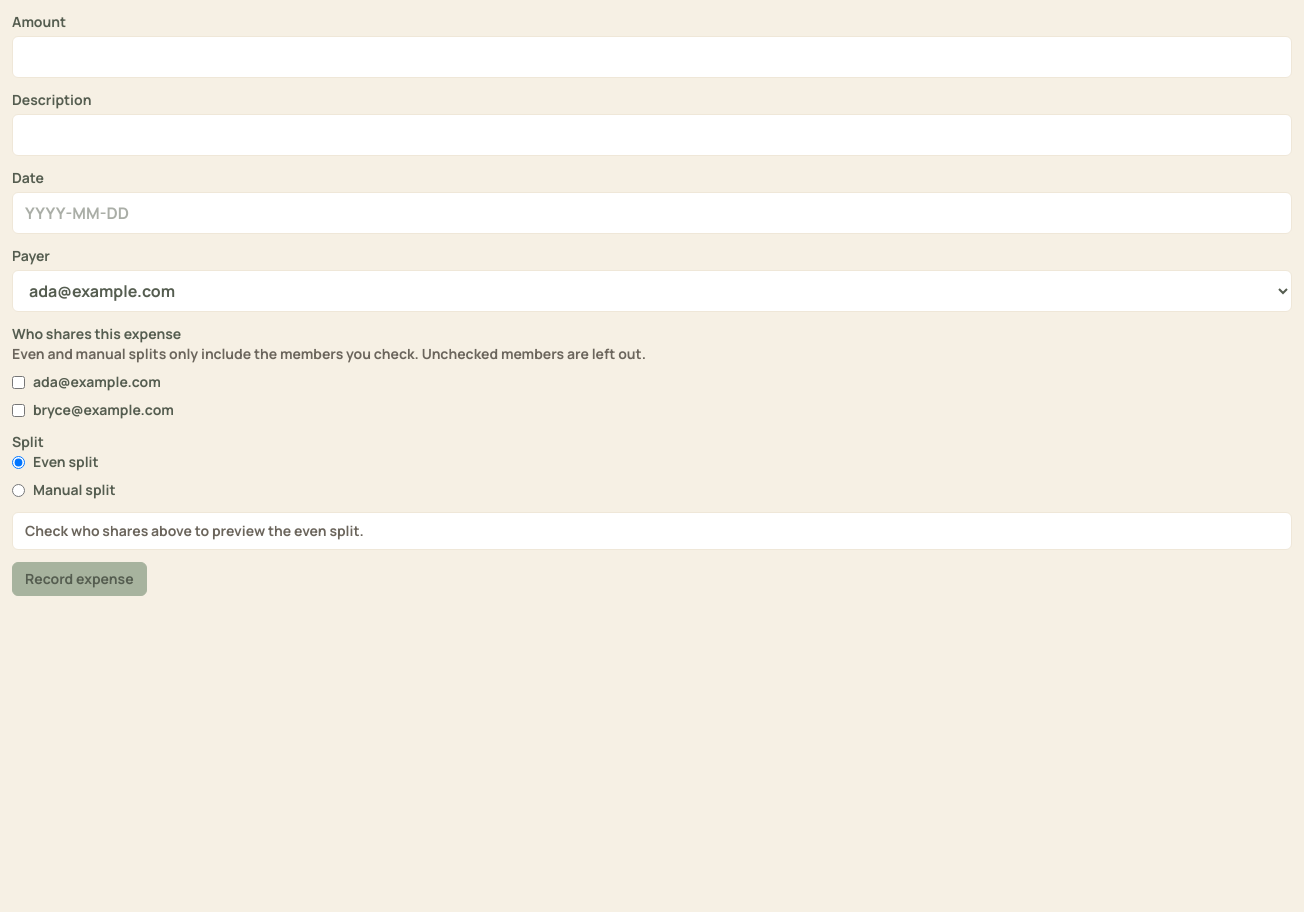
Test case: ExpenseForm › records an even split for selected participants
Type "10.50" into the field labelled "Amount". click: (652, 57)
box: top-left (12, 36), bottom-right (1292, 78)
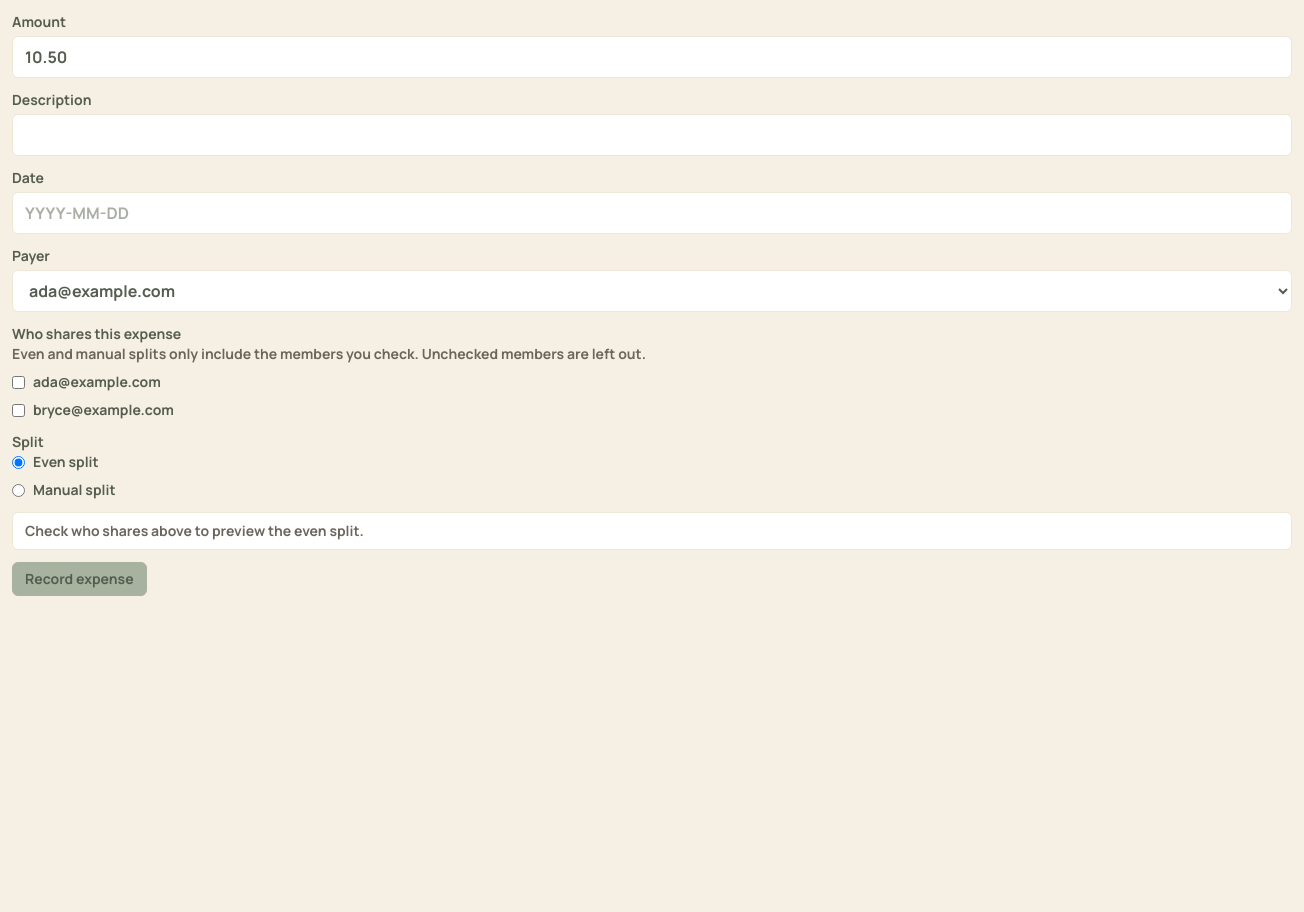
Type "Taxi" into the field labelled "Description". click: (652, 135)
box: top-left (12, 114), bottom-right (1292, 156)
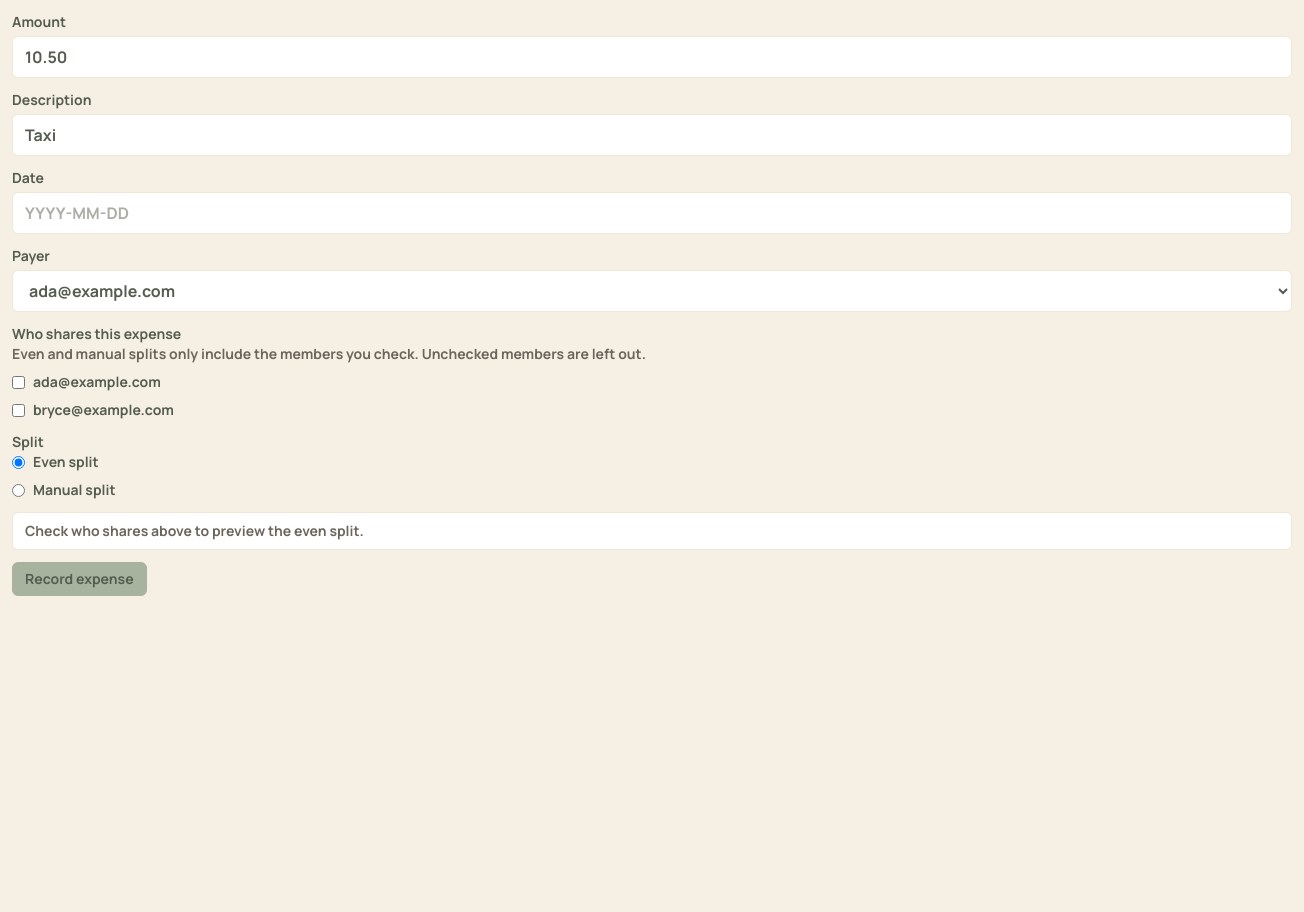
Type "2026-11-02" into the field labelled "Date". click: (652, 213)
box: top-left (12, 192), bottom-right (1292, 234)
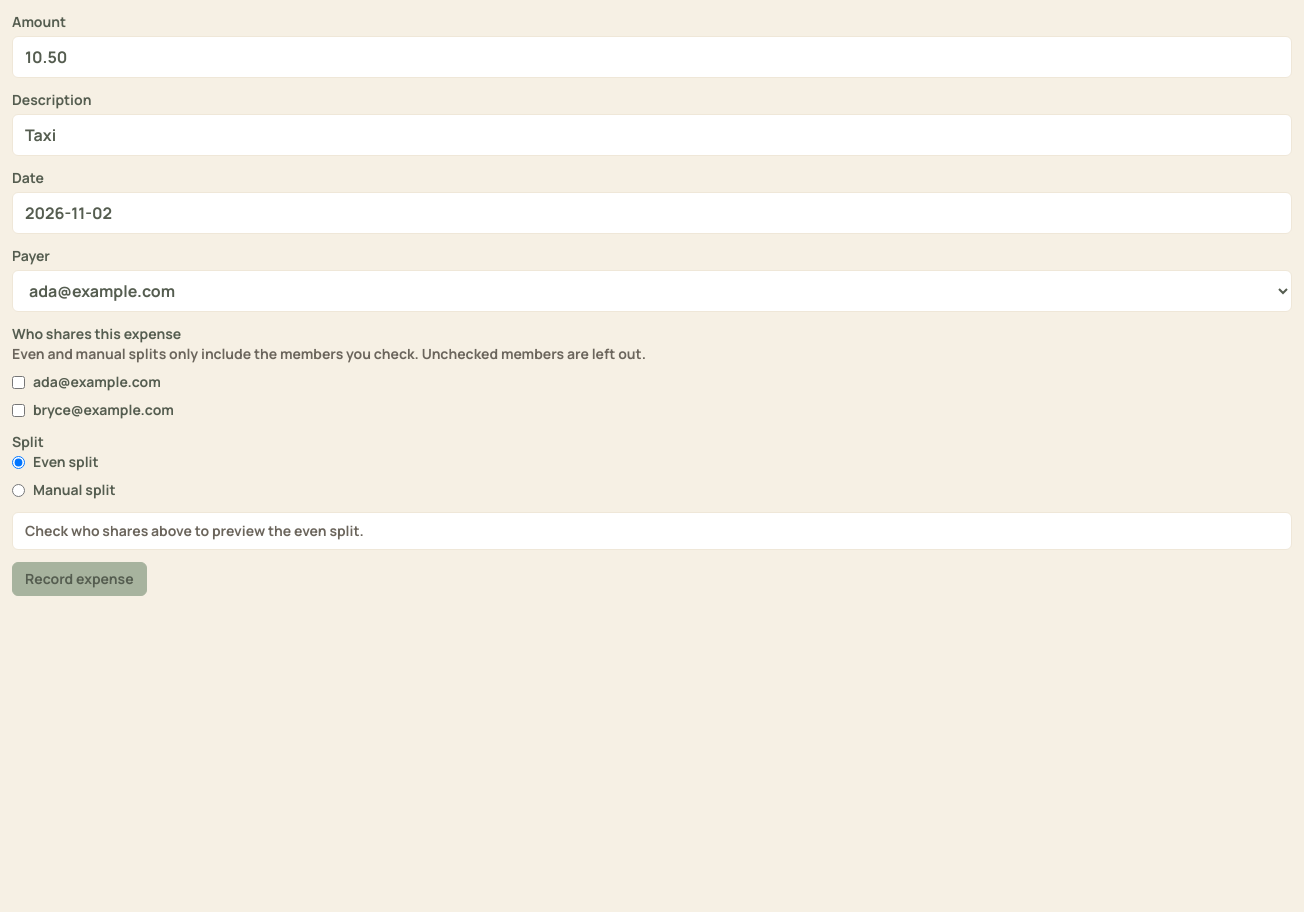
Select "ada@example.com" in the dropdown labelled "Payer". click: (652, 291)
box: top-left (12, 270), bottom-right (1292, 312)
Click the checkbox labelled "ada@example.com". click: click(18, 382)
box: top-left (12, 376), bottom-right (25, 388)
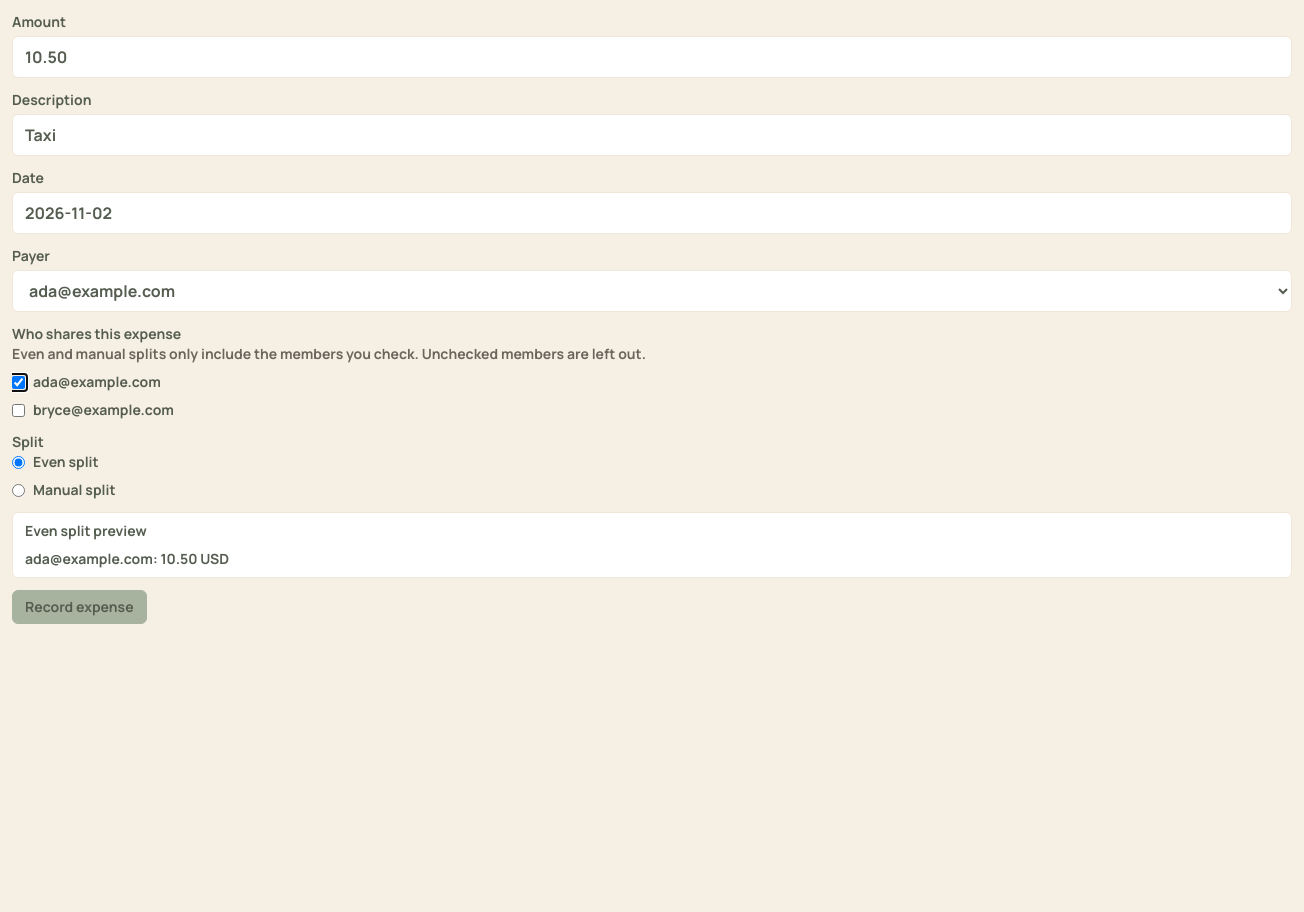
Click the checkbox labelled "bryce@example.com". click: click(18, 410)
box: top-left (12, 404), bottom-right (25, 416)
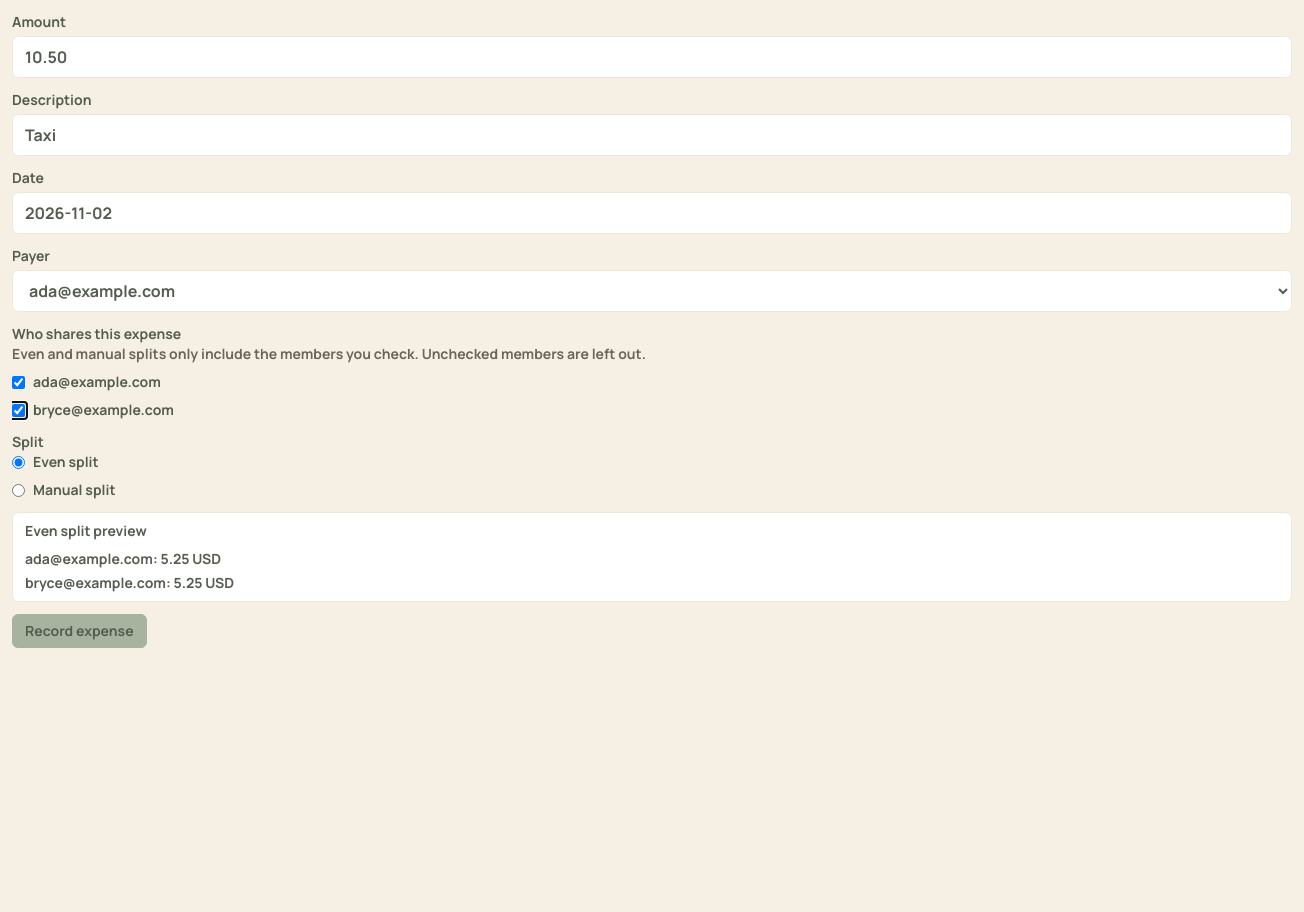
Check: the list item "ada@example.com: 5.25 USD" is shown, box top-left (25, 549), bottom-right (221, 568)
Check: the list item "bryce@example.com: 5.25 USD" is shown, box top-left (25, 573), bottom-right (234, 592)
Click the button "Record expense". click: click(79, 631)
box: top-left (12, 614), bottom-right (147, 648)
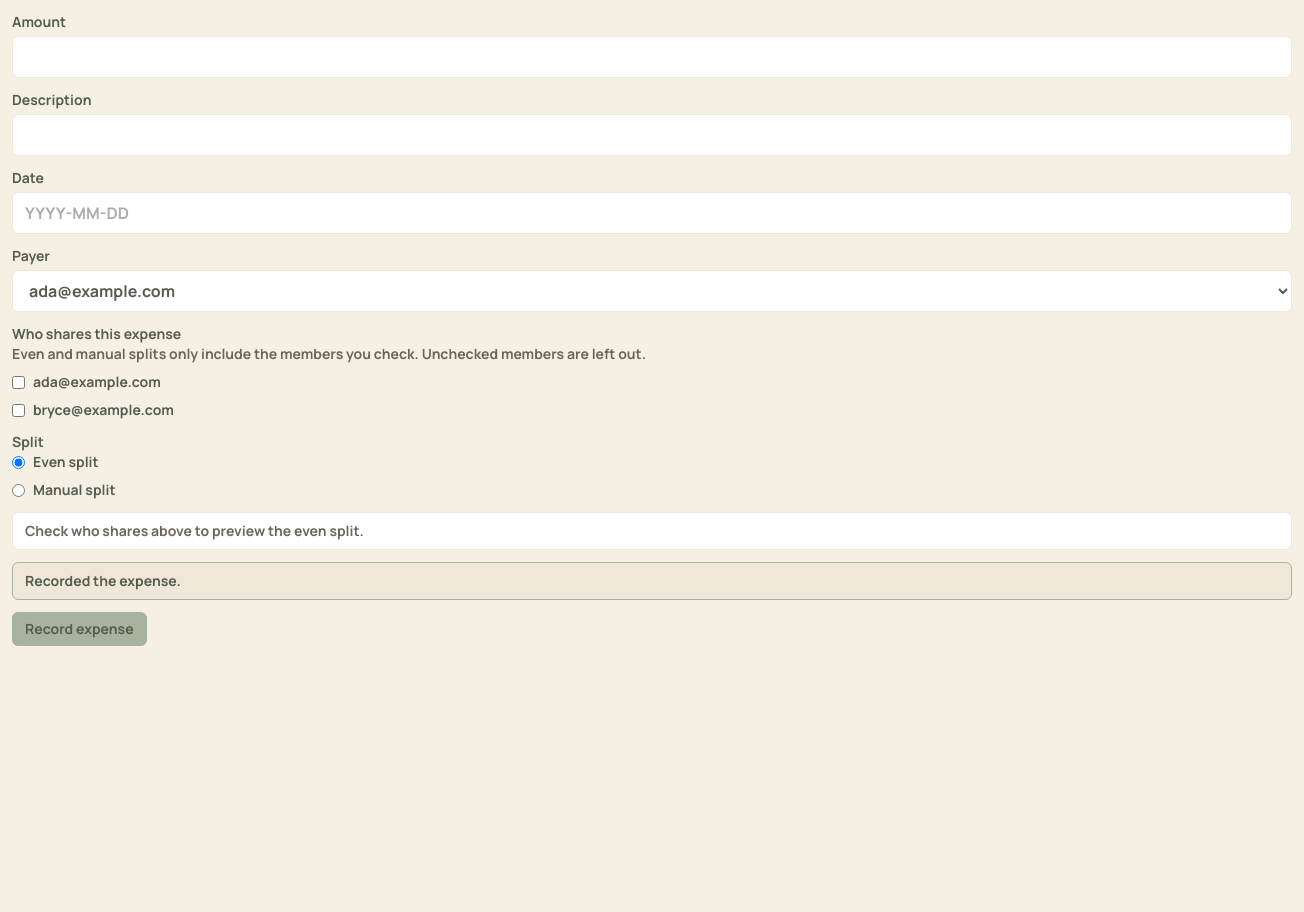
Check: the message reads "Recorded the expense.", box top-left (25, 571), bottom-right (181, 590)
